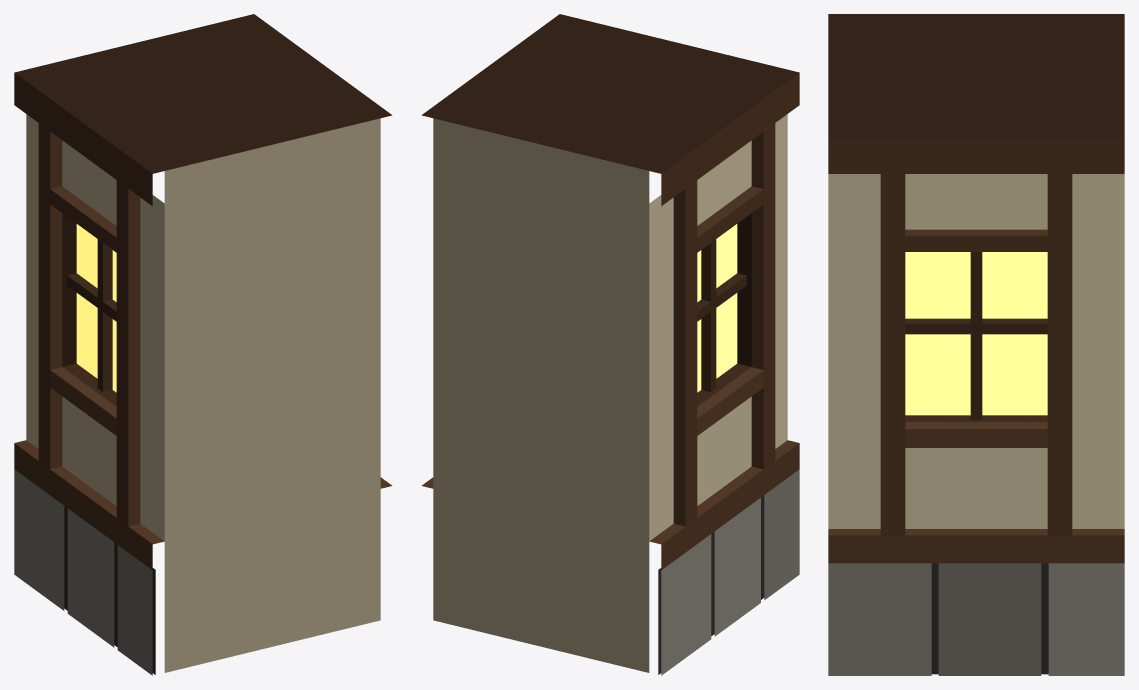
File: tile_house_wall_3_2.glb
The picture shows the model from 3 angles, left to right: view 1: azimuth 30°, elevation 25°; view 2: azimuth 150°, elevation 25°; view 3: azimuth 270°, elevation 25°; orthographic projection. The views are drawn at different scales.
Parts seen in each view (by area): view 1: tile_house_wall_3_2; view 2: tile_house_wall_3_2; view 3: tile_house_wall_3_2.
Boxes of the visible parts, x1,y1,x2,y2 form: tile_house_wall_3_2: (14, 14, 392, 675); tile_house_wall_3_2: (421, 14, 799, 675); tile_house_wall_3_2: (828, 14, 1124, 675).
Bounding box in the file's own units: 1 × 2 × 1.
